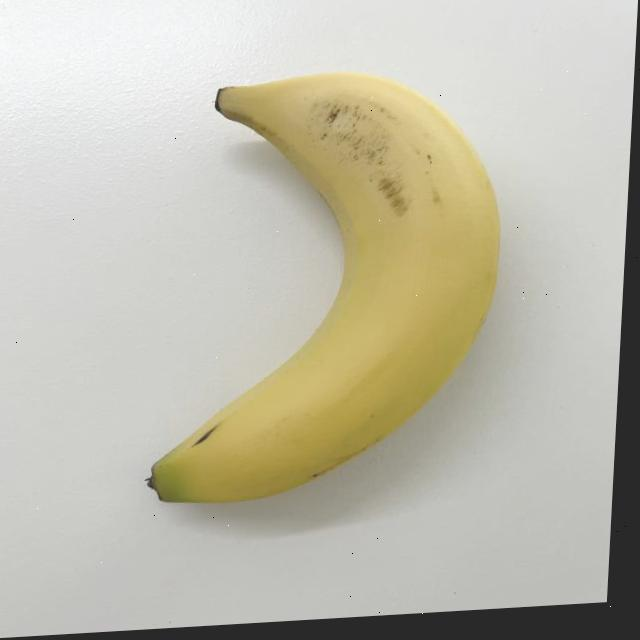banana: (136, 55, 512, 519)
